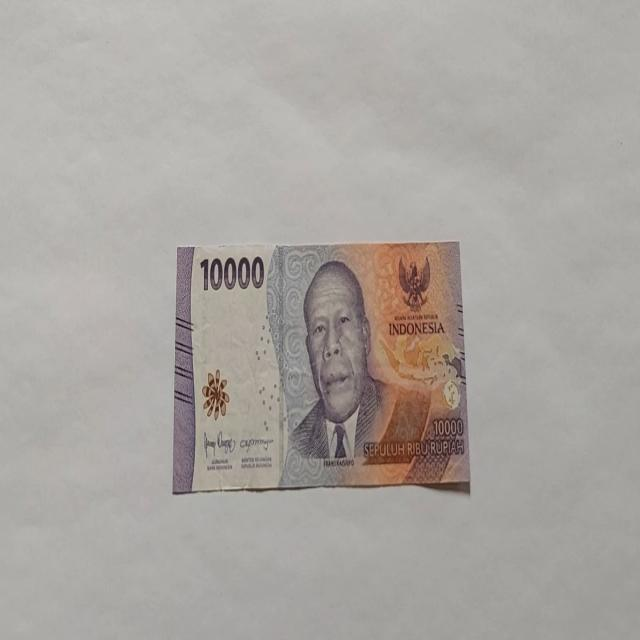sepuluh ribu rupiah: (172, 239, 470, 494)
